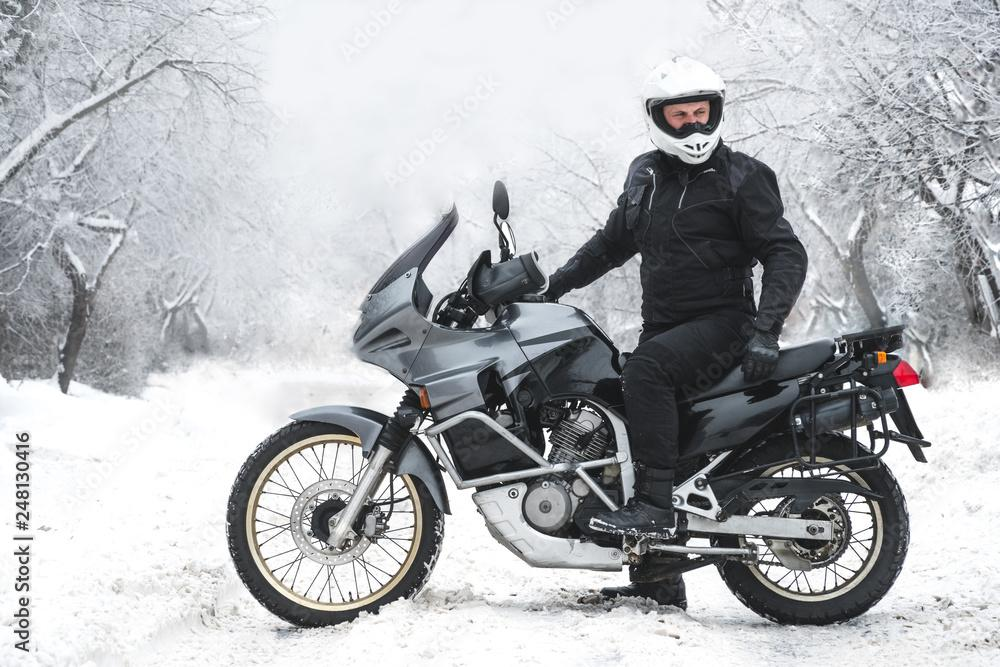helmet: (641, 53, 728, 168)
